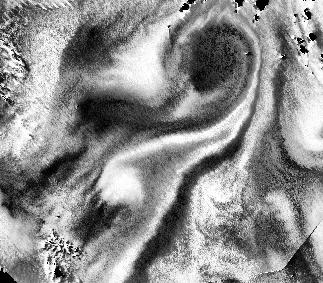CE: (167, 11, 265, 115)
